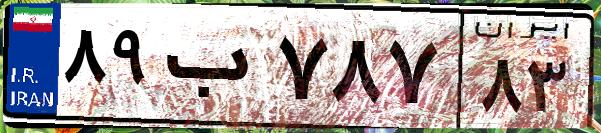3: (525, 38, 570, 115)
7: (270, 28, 330, 110), (385, 28, 445, 110)
8: (330, 28, 385, 110), (57, 26, 110, 100), (475, 38, 525, 113)
9: (110, 28, 158, 98)
ب: (158, 20, 270, 120)
